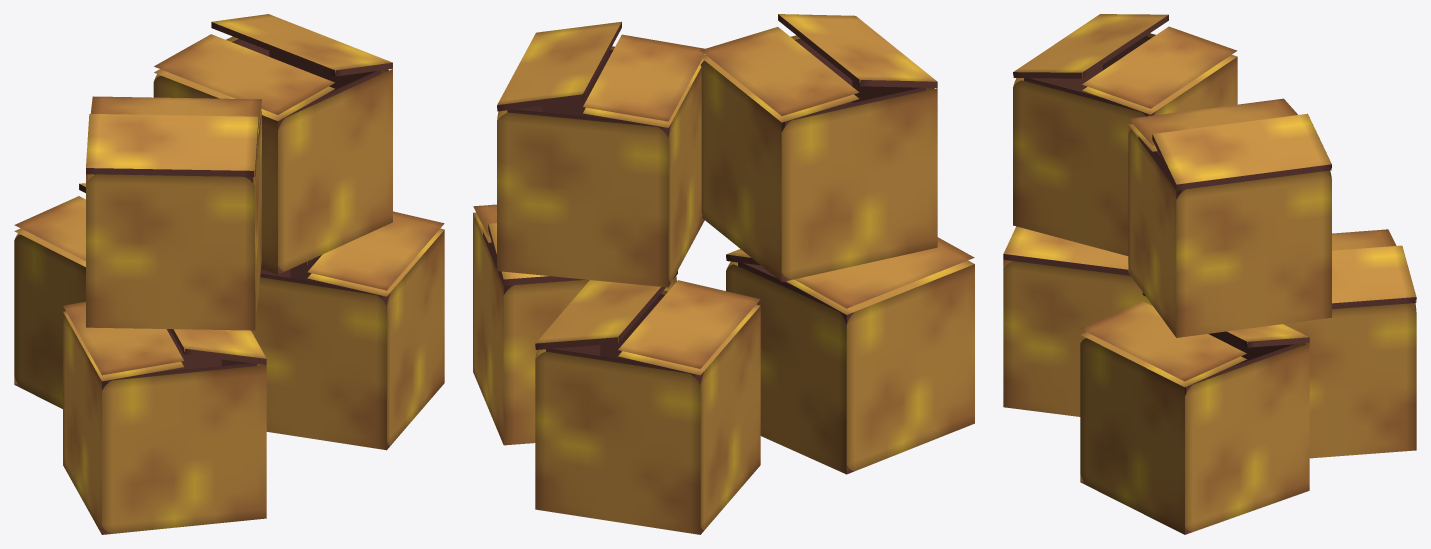
Rendered from Boxes_TipoB.fbx.
3 renders of one model, left to right at view 1: azimuth 30°, elevation 25°; view 2: azimuth 150°, elevation 25°; view 3: azimuth 270°, elevation 25°, orthographic. The views are drawn at different scales.
Parts seen in each view (by area): view 1: Cube.042, Cube.040, Cube.038, Cube.041, Cube.039; view 2: Cube.042, Cube.039, Cube.041, Cube.040, Cube.038; view 3: Cube.038, Cube.041, Cube.042, Cube.039, Cube.040.
Boxes of the visible parts, bbox=[...] form: Cube.042: bbox=[86, 96, 261, 330]; Cube.040: bbox=[63, 301, 266, 534]; Cube.038: bbox=[251, 211, 444, 450]; Cube.041: bbox=[153, 14, 392, 274]; Cube.039: bbox=[14, 183, 85, 408]; Cube.042: bbox=[700, 14, 937, 281]; Cube.039: bbox=[535, 270, 760, 534]; Cube.041: bbox=[497, 21, 704, 287]; Cube.040: bbox=[726, 237, 974, 474]; Cube.038: bbox=[473, 204, 676, 445]; Cube.038: bbox=[1080, 292, 1309, 534]; Cube.041: bbox=[1128, 98, 1331, 337]; Cube.042: bbox=[1013, 14, 1237, 255]; Cube.039: bbox=[1283, 229, 1416, 458]; Cube.040: bbox=[1003, 226, 1152, 416].
Bounding box in the file's own units: 141 × 119 × 127.
